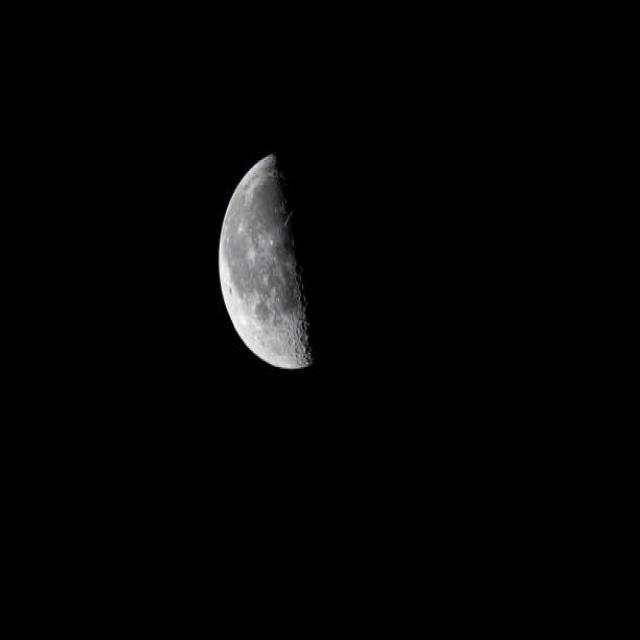moon: (218, 146, 370, 370)
